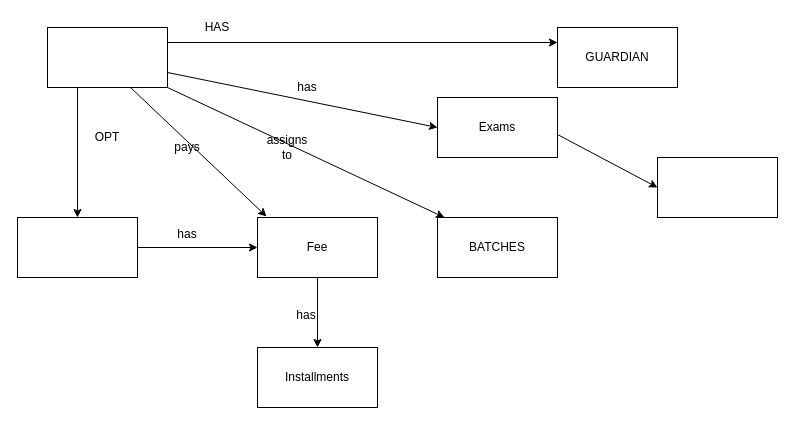
Some shapes in this 795 by 425 pixel diagram are drawn without their labels. The centre of each missing label's shape, as x and y in pixels:
"COURSES" belongs at (x=77, y=247).
"Results" belongs at (x=717, y=187).
"STUDENTS" belongs at (x=107, y=57).
